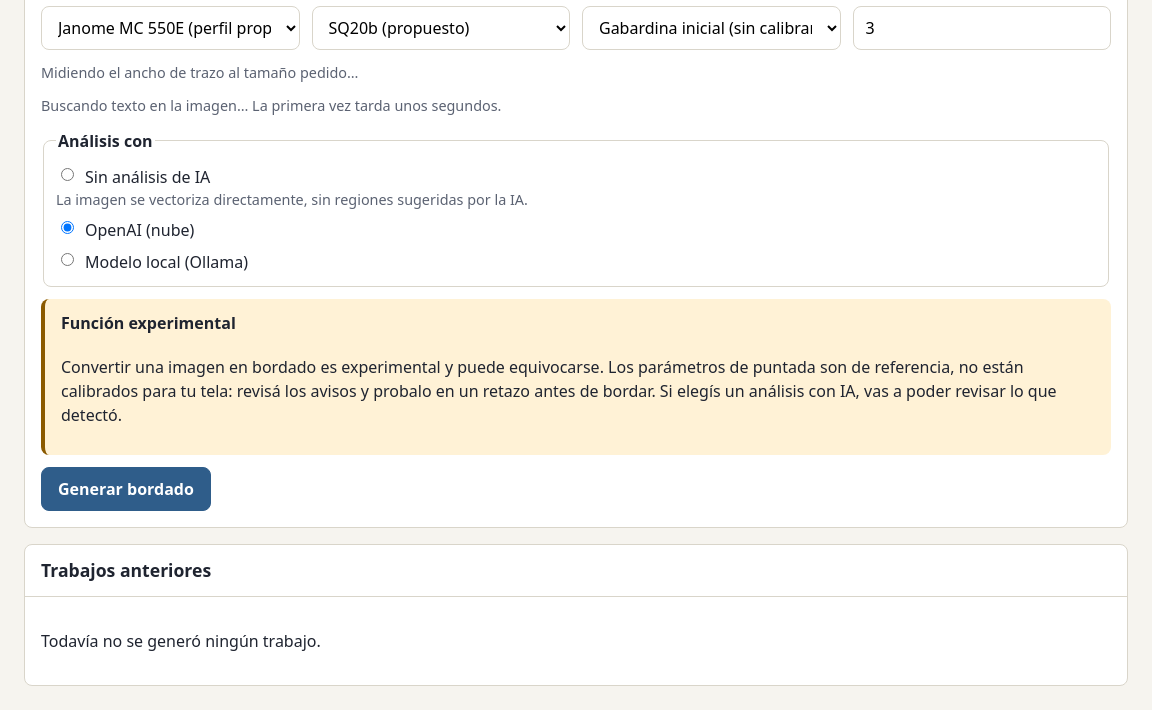
muestra física (POST /sewouts) › no aparece si el trabajo falló
The width and height of the screenshot is (1152, 710).
Earlier steps of the test are not shown.
(page scrolled)
Click the button "Generar bordado" at (126, 490), box [41, 468, 211, 512]
Wait 8000 ms
(page scrolled)
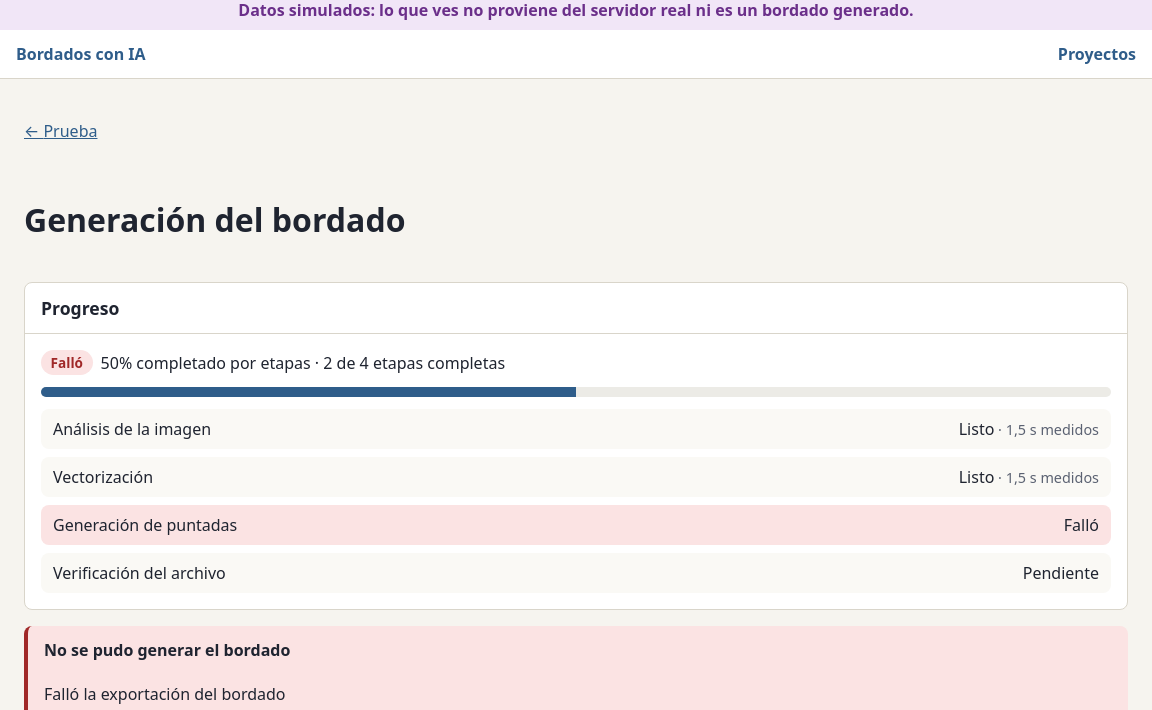
Now the heading "Generación del bordado" is shown, box [24, 198, 406, 241]
Now the text "No se pudo generar el bordado" is shown, box [44, 639, 290, 661]
